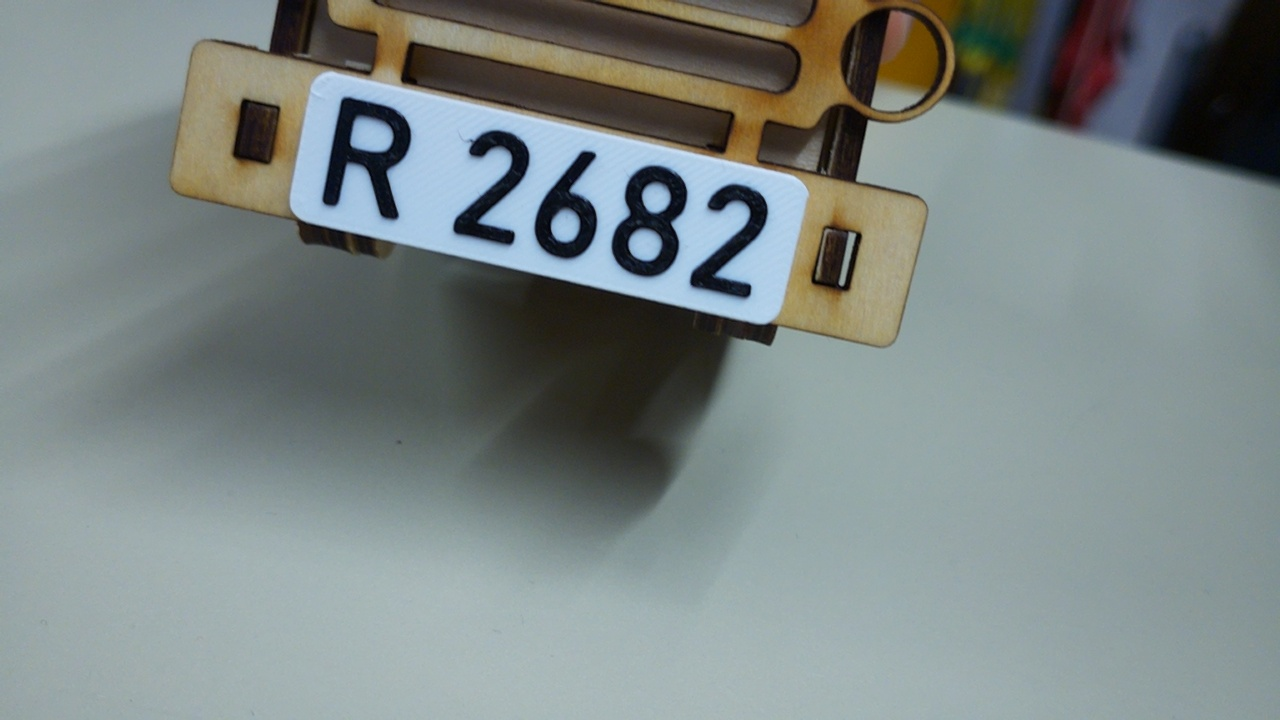license_plate: (285, 68, 814, 326)
